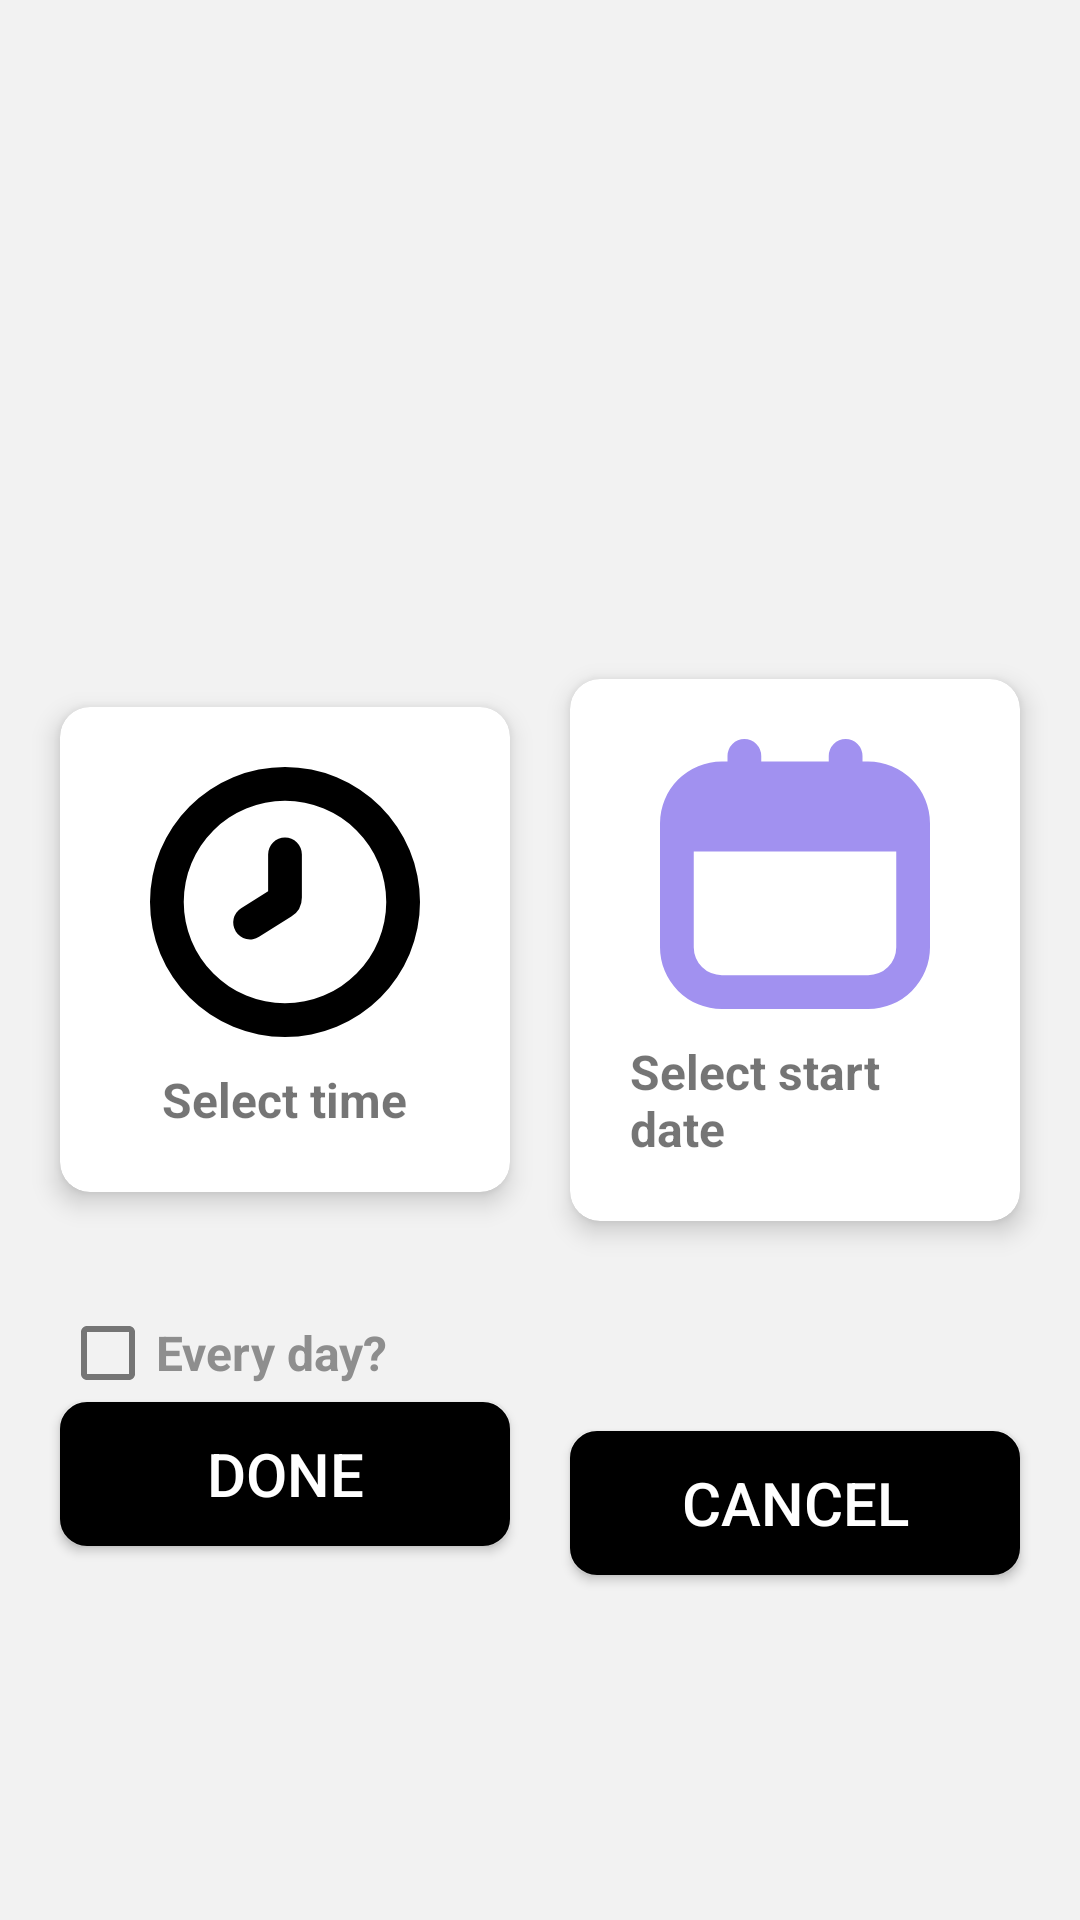

Named icons in this screenshot (1080 x 1920) and their centers, (x,y):
calendar: (795,874)
clock: (285,902)
